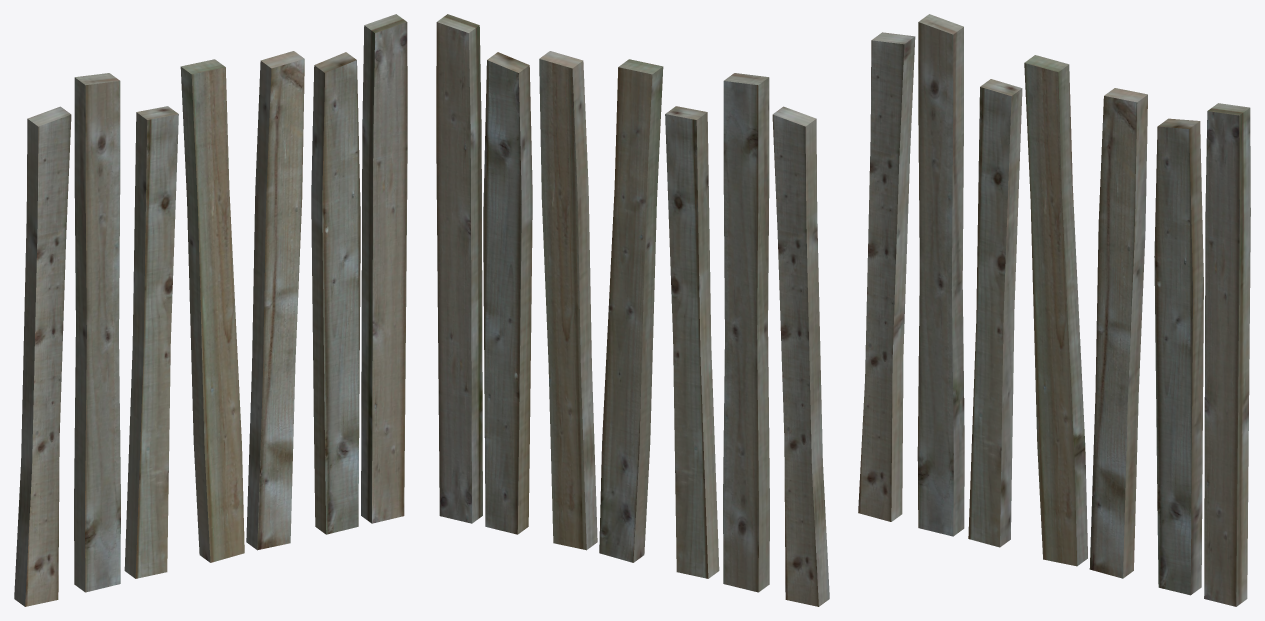
Rendered from wood.fbx.
3 renders of one model, left to right at view 1: azimuth 30°, elevation 25°; view 2: azimuth 150°, elevation 25°; view 3: azimuth 330°, elevation 25°, orthographic.
Parts seen in each view (by area): view 1: Cube; view 2: Cube; view 3: Cube.
Part boxes in pixels (box(x1,y1,x2,y2)): Cube: box(14, 14, 407, 606); Cube: box(436, 14, 829, 606); Cube: box(858, 14, 1250, 606).
Bounding box in the file's own units: 334 × 425 × 16.56.
